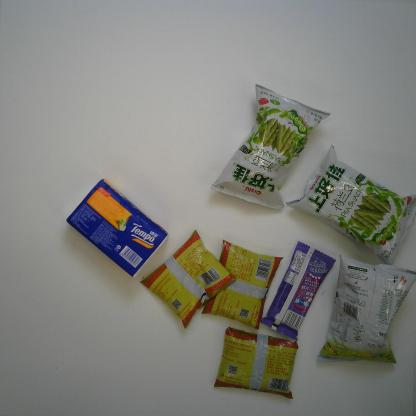Candy: (261, 241, 336, 342)
Puffed Food: (284, 142, 416, 267), (210, 84, 332, 210), (316, 254, 416, 364)
Seasoner: (140, 229, 236, 330), (200, 239, 283, 329), (214, 326, 299, 400)
Tissue: (65, 179, 169, 278)
